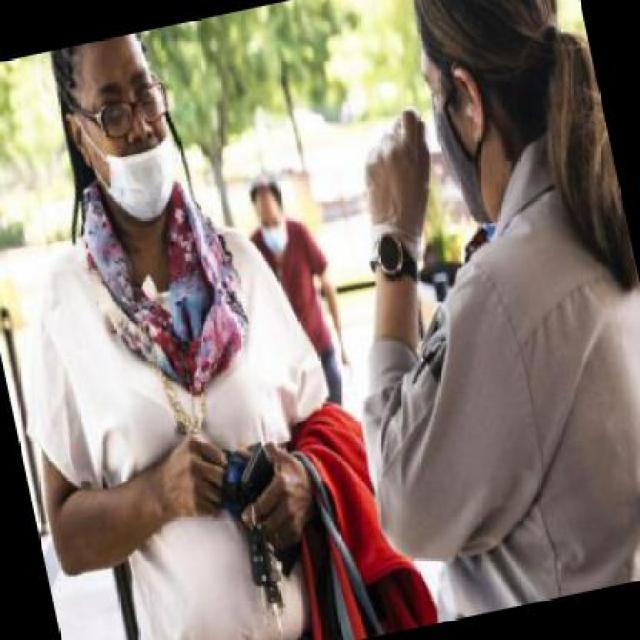hairnet: (63, 28, 194, 234)
